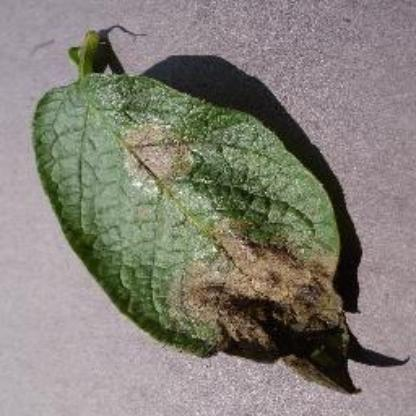Late-Blight: (26, 58, 366, 408)
